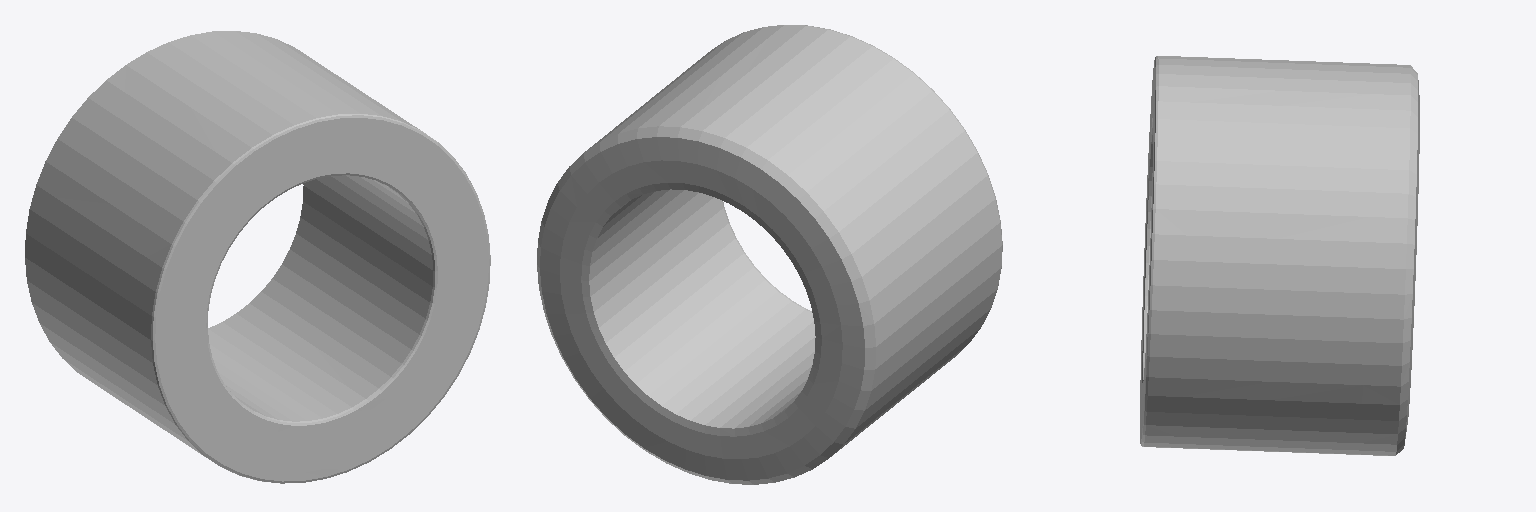
Rendered from sink_overflow.obj.
3 renders of one model, left to right at view 1: azimuth 30°, elevation 25°; view 2: azimuth 150°, elevation 25°; view 3: azimuth 270°, elevation 25°, orthographic.
Visible parts, largest first — view 1: Overflow; view 2: Overflow; view 3: Overflow.
Boxes of the visible parts, x1=… form: Overflow: x1=25, y1=31, x2=490, y2=483; Overflow: x1=537, y1=25, x2=1002, y2=484; Overflow: x1=1140, y1=56, x2=1419, y2=455.
Bounding box in the file's own units: 5.14 × 5.27 × 3.67.